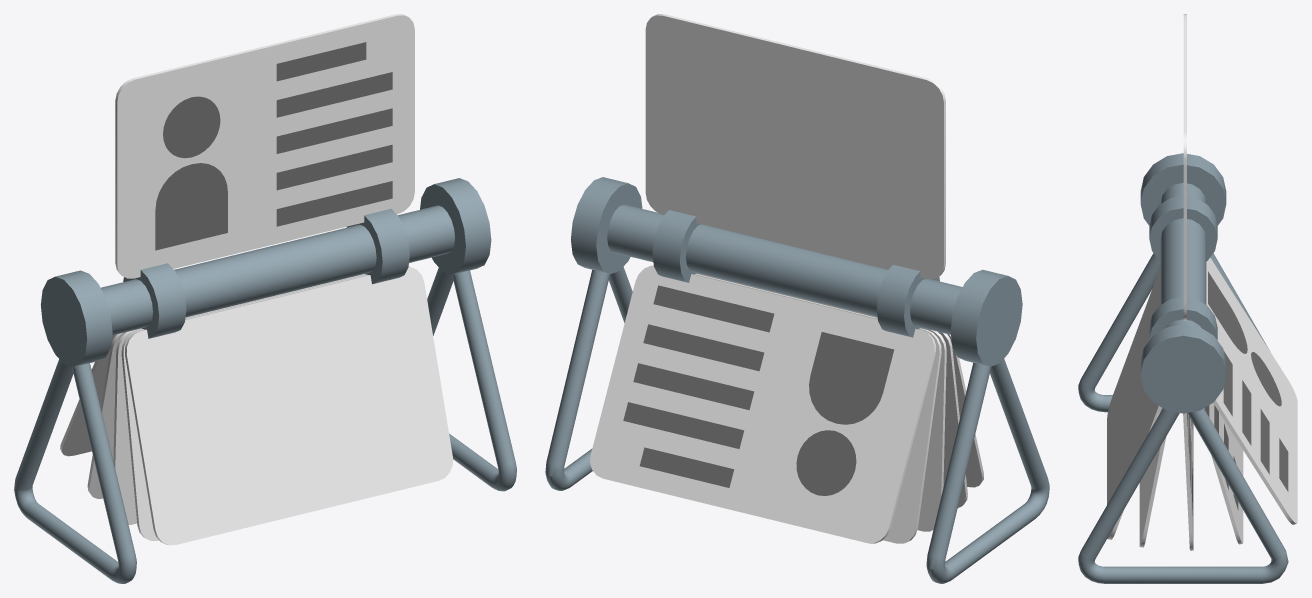
Rendered from card_index.glb.
3 views of the same model, side by side, from view 1: azimuth 30°, elevation 25°; view 2: azimuth 150°, elevation 25°; view 3: azimuth 270°, elevation 25° (orthographic). The views are drawn at different scales.
Visible parts, largest first — view 1: Cylinder.509; view 2: Cylinder.509; view 3: Cylinder.509.
Boxes of the visible parts, <box> form: Cylinder.509: <box>14,14,516,583</box>; Cylinder.509: <box>545,14,1049,583</box>; Cylinder.509: <box>1078,14,1297,583</box>.
Bounding box in the file's own units: 2.03 × 2.18 × 1.03.
Materials: 1 (1 with a texture image).
